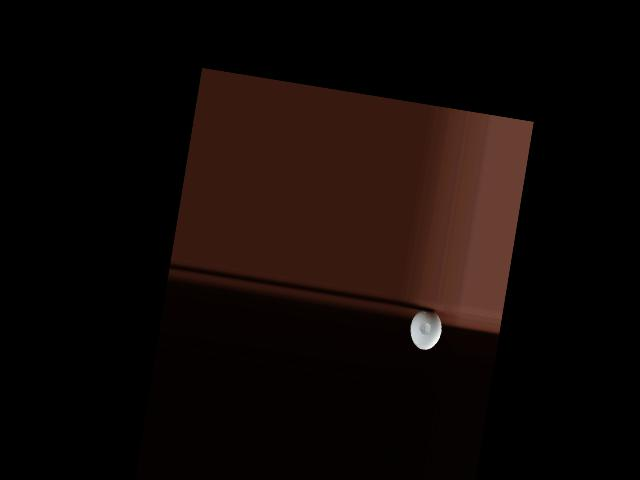egg: (407, 307, 444, 352)
